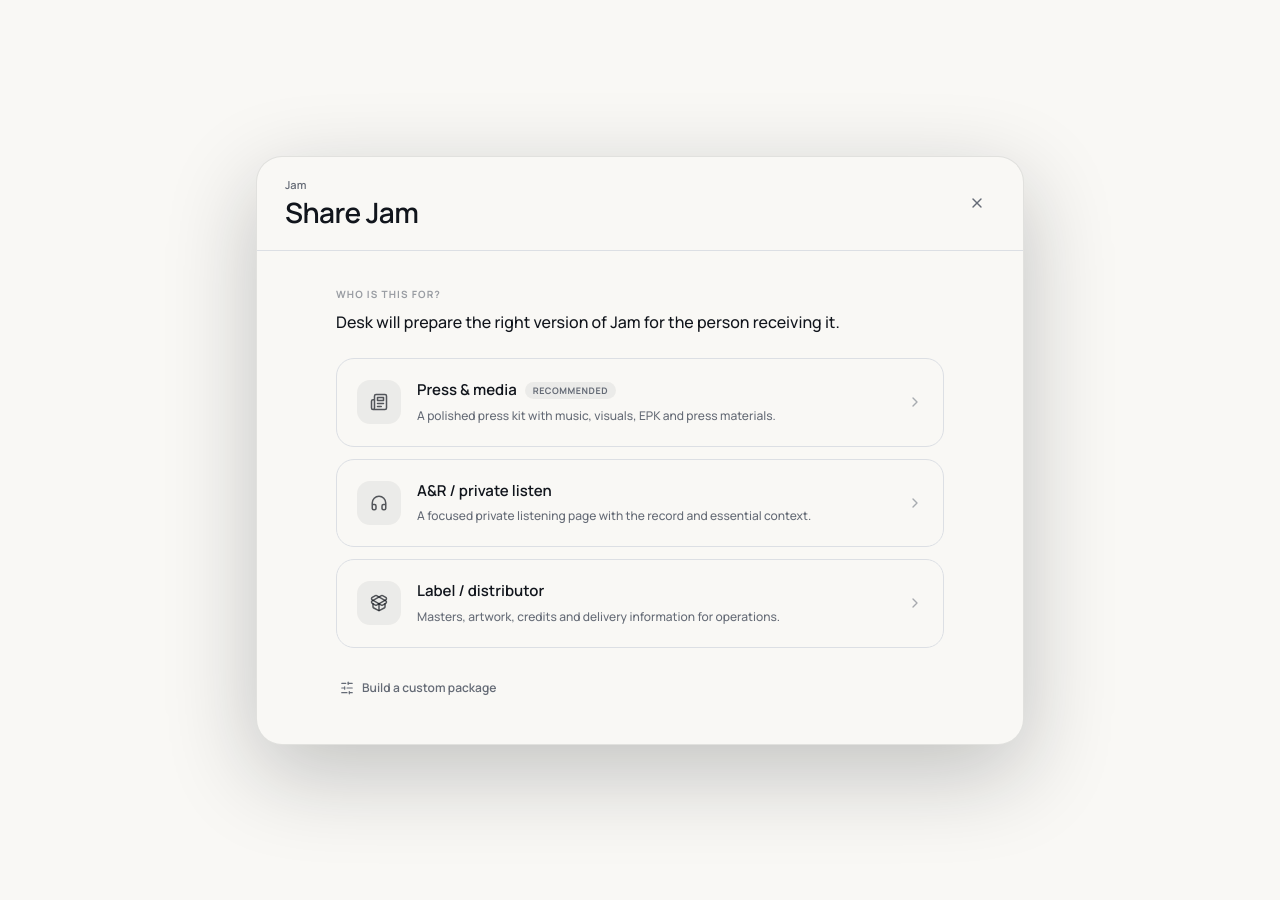
it: MusicShareDialog › creates first, then offers copy, open, email, revoke, and another package
Click the button "A&R / private listen": (379, 503) [336,458,944,547]
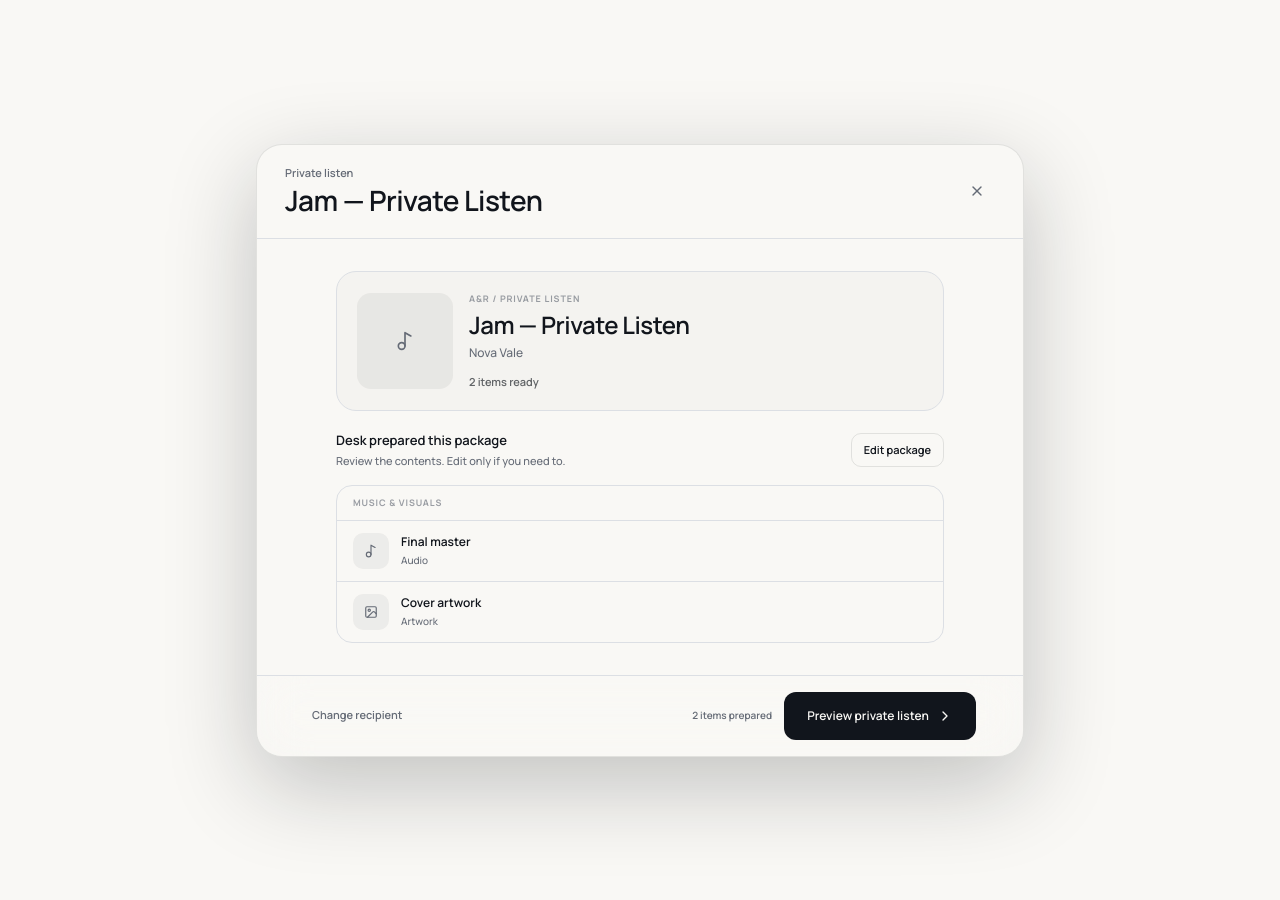
Click the button "Preview private listen": (880, 716) [784,692,976,740]
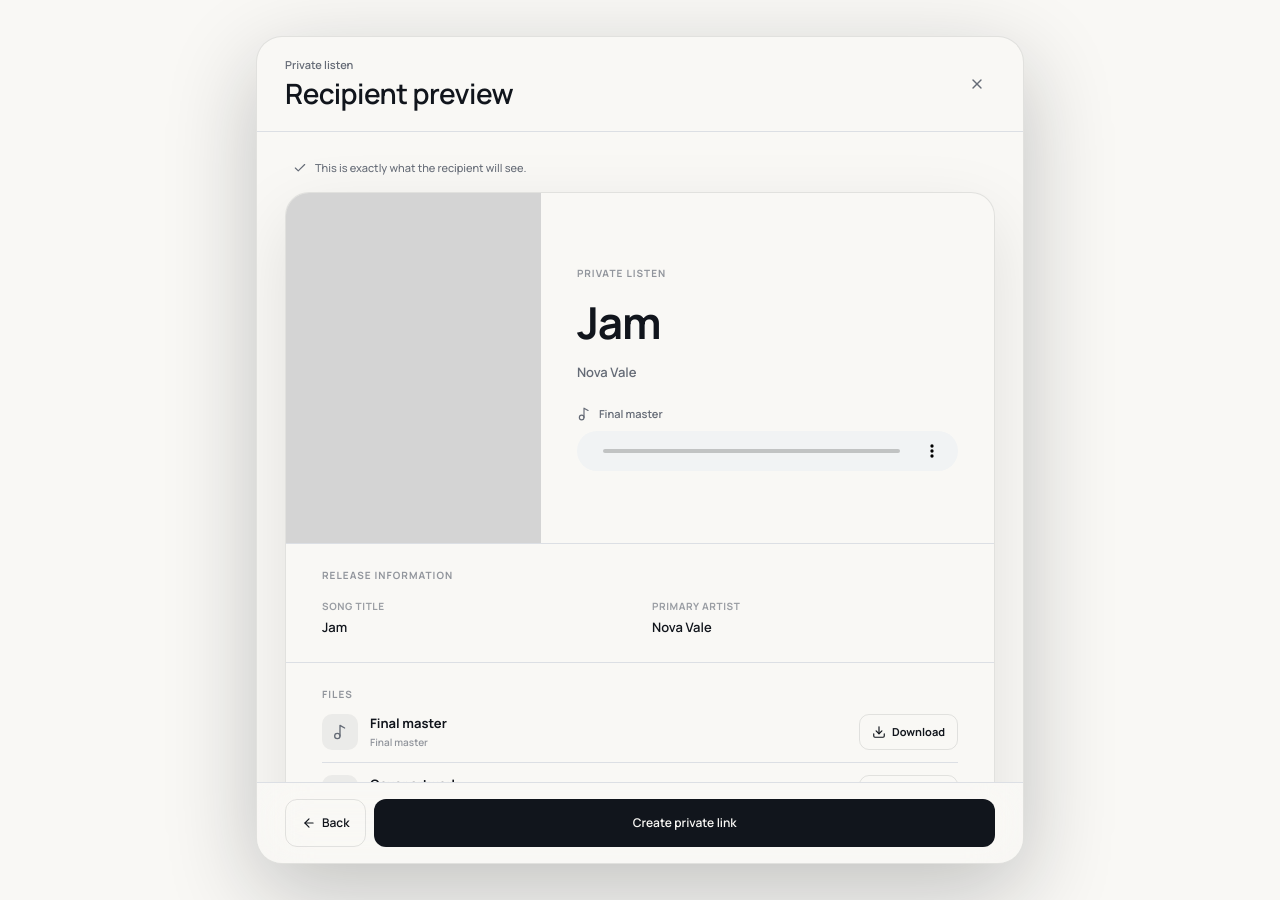
Click the button "Create private link": (685, 823) [374,799,995,847]
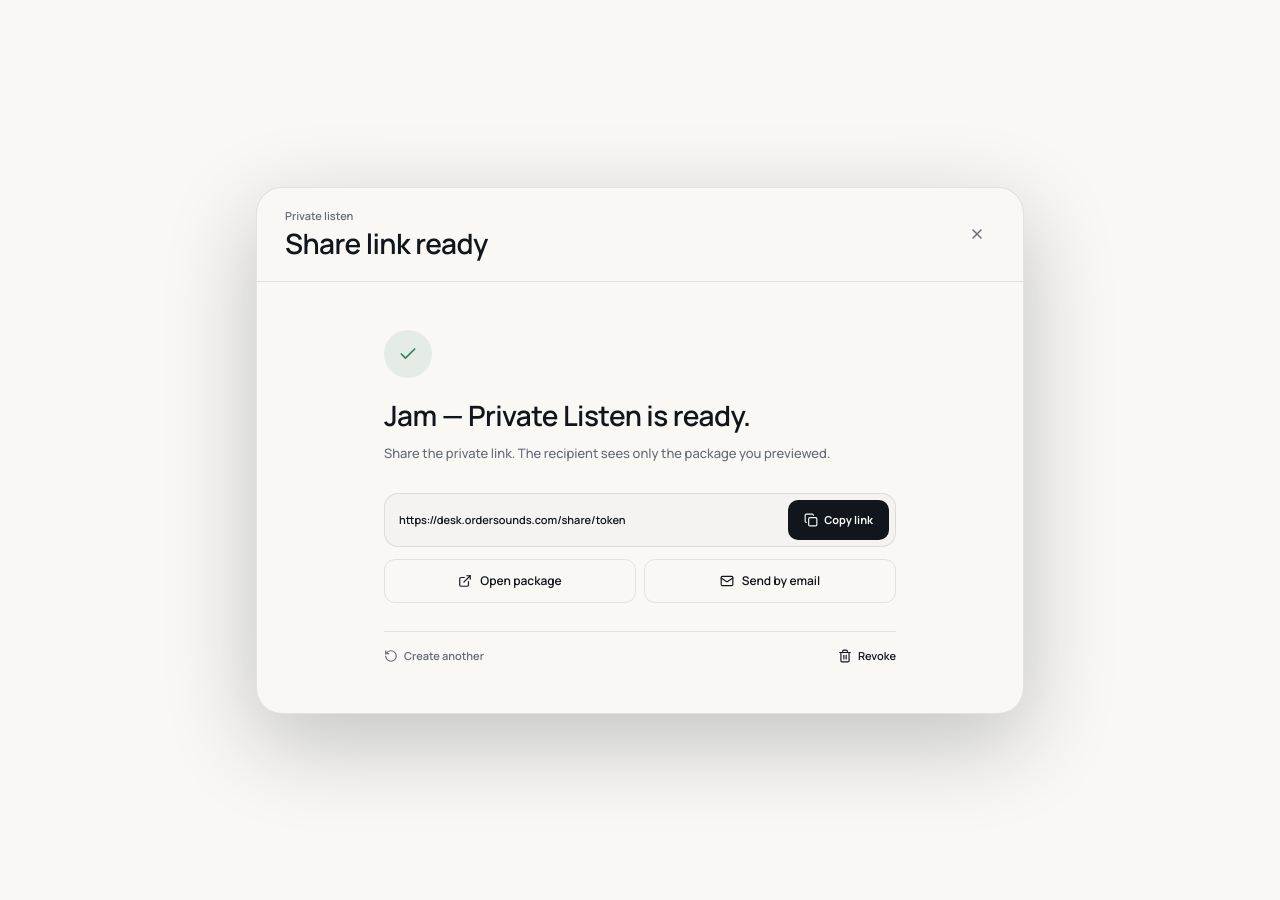
Now the heading "Share link ready" is shown, box [285,226,488,261]
Now the button "Copy link" is shown, box [788,500,889,540]
Now the button "Send by email" is shown, box [644,559,896,603]
